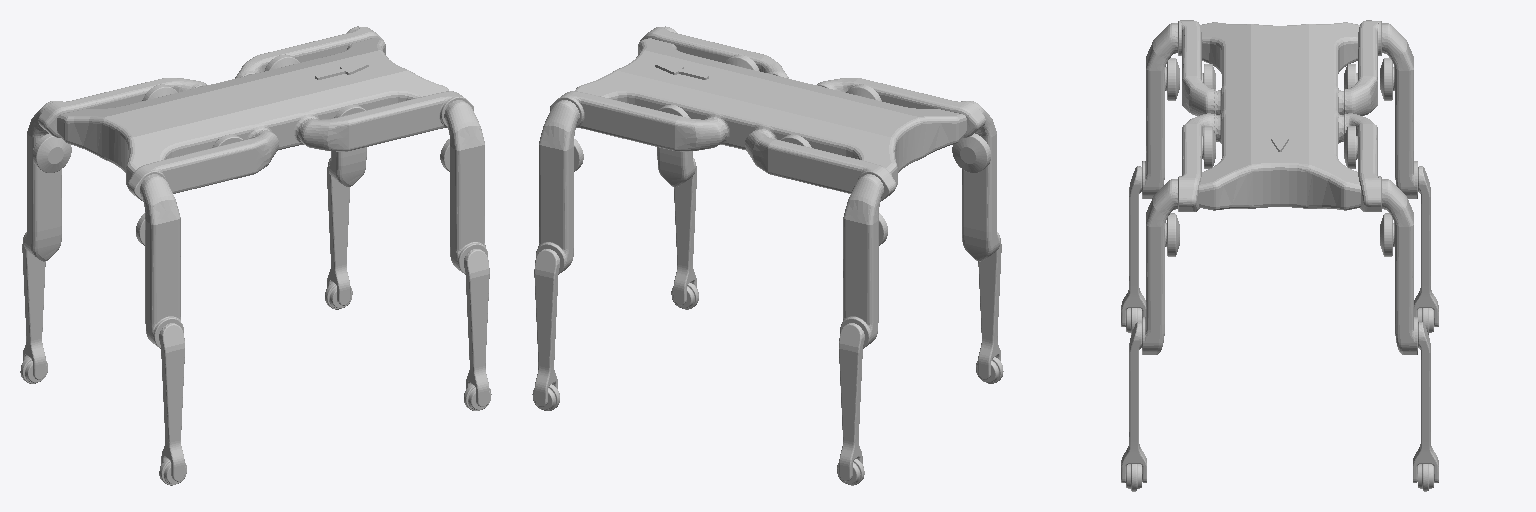
The robot description file, URDF, robot "solo":
<?xml version="1.0" ?>
<!-- =================================================================================== -->
<!-- |    This document was autogenerated by xacro from xacro/solo12.urdf.xacro        | -->
<!-- |    EDITING THIS FILE BY HAND IS NOT RECOMMENDED                                 | -->
<!-- =================================================================================== -->
<robot name="solo" xmlns:controller="http://playerstage.sourceforge.net/gazebo/xmlschema/#controller" xmlns:interface="http://playerstage.sourceforge.net/gazebo/xmlschema/#interface" xmlns:sensor="http://playerstage.sourceforge.net/gazebo/xmlschema/#sensor" xmlns:xacro="http://playerstage.sourceforge.net/gazebo/xmlschema/#interface">
  <!-- This file is based on: https://atlas.is.localnet/confluence/display/AMDW/Quadruped+URDF+Files -->
  <link name="base_link">
    <!-- BASE LINK INERTIAL -->
    <inertial>
      <origin rpy="0 0 0" xyz="0 0 0"/>
      <mass value="1.63315091"/>
      <!-- The base is extremely symmetrical. -->
      <inertia ixx="0.00578574" ixy="0.0" ixz="0.0" iyy="0.01938108" iyz="0.0" izz="0.02476124"/>
    </inertial>
    <!-- BASE LINK VISUAL -->
    <visual>
      <origin rpy="0 0 0" xyz="0 0 0"/>
      <geometry>
        <mesh filename="package://solo_description/meshes/obj/with_foot/solo_body.obj"/>
      </geometry>
      <material name="grey">
        <color rgba="0.8 0.8 0.8 1.0"/>
      </material>
    </visual>
    <!-- BASE LINK COLLISION -->
    <collision>
      <origin rpy="0 0 0" xyz="0 0 0"/>
      <geometry>
        <mesh filename="package://solo_description/meshes/obj/with_foot/solo_body.obj"/>
      </geometry>
      <material name="grey">
        <color rgba="0.8 0.8 0.8 1.0"/>
      </material>
    </collision>
    <!-- Bullet specific paramters -->
    <contact>
      <lateral_friction value="1.0"/>
      <restitution value="0.5"/>
    </contact>
  </link>
  <!-- END BASE LINK -->
  <joint name="FL_HAA" type="revolute">
    <parent link="base_link"/>
    <child link="FL_SHOULDER"/>
    <limit effort="1000" lower="-10" upper="10" velocity="1000"/>
    <!-- joints rotates around the x-axis -->
    <axis xyz="1 0 0"/>
    <origin rpy="0 0 0" xyz="0.19 0.1046 0"/>
    <!-- pybullet simulation parameters -->
    <dynamics damping="0.0" friction="0.0"/>
  </joint>
  <link name="FL_SHOULDER">
    <!-- create a dummy shoulder link to join the two joints -->
    <inertial>
      <origin rpy="0 0 0" xyz="0. 0. 0."/>
      <!-- Adding extra weight for actuator module at shoulder. -->
      <mass value="0.150"/>
      <inertia ixx="0.00000001" ixy="0.0" ixz="0.0" iyy="0.00000001" iyz="0" izz="0.00000001"/>
    </inertial>
  </link>
  <joint name="FL_HFE" type="revolute">
    <parent link="FL_SHOULDER"/>
    <child link="FL_UPPER_LEG"/>
    <limit effort="1000" lower="-10" upper="10" velocity="1000"/>
    <!-- joints rotates around the y-axis -->
    <axis xyz="0 1 0"/>
    <!-- placement of the joint -->
    <origin rpy="0 0 0" xyz="0 0 0"/>
    <!-- pybullet simulation parameters -->
    <dynamics damping="0.0" friction="0.0"/>
  </joint>
  <link name="FL_UPPER_LEG">
    <!-- Left upper leg inertia -->
    <inertial>
      <origin rpy="0 0 0" xyz="0.00001377 0.01935853 -0.07870700"/>
      <mass value="0.14853845"/>
      <inertia ixx="0.00041107" ixy="0.0" ixz="0.0" iyy="0.00041193" iyz="0.00004671" izz="0.00003024"/>
    </inertial>
    <!-- UPPER LEG LINK VISUAL -->
    <visual>
      <origin rpy="0 0 0" xyz="0 0 0"/>
      <geometry>
        <mesh filename="package://solo_description/meshes/obj/with_foot/solo_upper_leg_left_side.obj"/>
      </geometry>
      <material name="grey">
        <color rgba="0.8 0.8 0.8 1.0"/>
      </material>
    </visual>
    <!-- UPPER LEG LINK COLLISION -->
    <collision>
      <origin rpy="0 0 0" xyz="0 0 0"/>
      <geometry>
        <mesh filename="package://solo_description/meshes/obj/with_foot/solo_upper_leg_left_side.obj"/>
      </geometry>
      <material name="grey">
        <color rgba="0.8 0.8 0.8 1.0"/>
      </material>
    </collision>
    <!-- Bullet specific paramters -->
    <contact>
      <lateral_friction value="1.0"/>
      <restitution value="0.5"/>
    </contact>
  </link>
  <!-- END UPPER LEG LINK -->
  <!-- KFE: Joint between the upper leg and the lower leg -->
  <joint name="FL_KFE" type="revolute">
    <parent link="FL_UPPER_LEG"/>
    <child link="FL_LOWER_LEG"/>
    <limit effort="1000" lower="-10" upper="10" velocity="1000"/>
    <!-- joints rotates around the y-axis -->
    <axis xyz="0 1 0"/>
    <origin rpy="0 0 0" xyz="0 0.03745 -0.16"/>
    <!-- pybullet simulation parameters -->
    <dynamics damping="0.0" friction="0.0"/>
  </joint>
  <link name="FL_LOWER_LEG">
    <!-- Left lower leg inertia -->
    <inertial>
      <origin rpy="0 0 0" xyz="0.0 0.00787644 -0.08928215"/>
      <mass value="0.03070001"/>
      <inertia ixx="0.00012024" ixy="0.0" ixz="0.0" iyy="0.00012029" iyz="0.00000305" izz="0.00000216"/>
    </inertial>
    <!-- LOWER LEG LINK VISUAL -->
    <visual>
      <origin rpy="0 0 0" xyz="0 0 0"/>
      <geometry>
        <mesh filename="package://solo_description/meshes/obj/with_foot/solo_lower_leg_left_side.obj"/>
      </geometry>
      <material name="grey">
        <color rgba="0.8 0.8 0.8 1.0"/>
      </material>
    </visual>
    <!-- LOWER LEG LINK COLLISION -->
    <collision>
      <origin rpy="0 0 0" xyz="0 0 0"/>
      <geometry>
        <mesh filename="package://solo_description/meshes/obj/with_foot/solo_lower_leg_left_side.obj"/>
      </geometry>
      <material name="grey">
        <color rgba="0.8 0.8 0.8 1.0"/>
      </material>
    </collision>
    <!-- Bullet specific paramters -->
    <contact>
      <lateral_friction value="1.0"/>
      <restitution value="0.5"/>
    </contact>
  </link>
  <!-- END LOWER LEG LINK -->
  <!-- KFE: Joint between the upper leg and the lower leg -->
  <joint name="FL_ANKLE" type="fixed">
    <parent link="FL_LOWER_LEG"/>
    <child link="FL_FOOT"/>
    <origin rpy="0 0 0" xyz="0 0.008 -0.16"/>
    <!-- Limits (usefull?) -->
    <limit effort="1000" lower="-10" upper="10" velocity="1000"/>
    <!-- pybullet simulation parameters -->
    <dynamics damping="0.0" friction="0.0"/>
  </joint>
  <link name="FL_FOOT">
    <!-- FOOT INERTIAL -->
    <!-- This link is symmetrical left or right -->
    <inertial>
      <origin rpy="0 0 0" xyz="0 0 0.00035767"/>
      <mass value="0.00693606"/>
      <inertia ixx="0.00000057" ixy="0.0" ixz="0.0" iyy="0.00000084" iyz="0.0" izz="0.00000053"/>
    </inertial>
    <!-- FOOT VISUAL -->
    <visual>
      <origin rpy="0 0 0" xyz="0 0 0"/>
      <geometry>
        <mesh filename="package://solo_description/meshes/obj/with_foot/solo_foot.obj"/>
      </geometry>
      <material name="grey">
        <color rgba="0.8 0.8 0.8 1.0"/>
      </material>
    </visual>
    <!-- FOOT COLLISION -->
    <collision>
      <origin rpy="0 0 0" xyz="0 0 0"/>
      <geometry>
        <mesh filename="package://solo_description/meshes/obj/with_foot/solo_foot.obj"/>
      </geometry>
      <material name="grey">
        <color rgba="0.8 0.8 0.8 1.0"/>
      </material>
    </collision>
    <!-- Bullet specific paramters -->
    <contact>
      <lateral_friction value="1.0"/>
      <restitution value="0.5"/>
    </contact>
  </link>
  <!-- END LOWER LEG LINK -->
  <joint name="FR_HAA" type="revolute">
    <parent link="base_link"/>
    <child link="FR_SHOULDER"/>
    <limit effort="1000" lower="-10" upper="10" velocity="1000"/>
    <!-- joints rotates around the x-axis -->
    <axis xyz="1 0 0"/>
    <origin rpy="0 0 0" xyz="0.19 -0.1046 0"/>
    <!-- pybullet simulation parameters -->
    <dynamics damping="0.0" friction="0.0"/>
  </joint>
  <link name="FR_SHOULDER">
    <!-- create a dummy shoulder link to join the two joints -->
    <inertial>
      <origin rpy="0 0 0" xyz="0. 0. 0."/>
      <!-- Adding extra weight for actuator module at shoulder. -->
      <mass value="0.150"/>
      <inertia ixx="0.00000001" ixy="0.0" ixz="0.0" iyy="0.00000001" iyz="0" izz="0.00000001"/>
    </inertial>
  </link>
  <joint name="FR_HFE" type="revolute">
    <parent link="FR_SHOULDER"/>
    <child link="FR_UPPER_LEG"/>
    <limit effort="1000" lower="-10" upper="10" velocity="1000"/>
    <!-- joints rotates around the y-axis -->
    <axis xyz="0 1 0"/>
    <!-- placement of the joint -->
    <origin rpy="0 0 0" xyz="0 0 0"/>
    <!-- pybullet simulation parameters -->
    <dynamics damping="0.0" friction="0.0"/>
  </joint>
  <link name="FR_UPPER_LEG">
    <!-- Right upper leg inertia -->
    <inertial>
      <origin rpy="0 0 0" xyz="-0.00001377 -0.01935853 -0.07870700"/>
      <mass value="0.14853845"/>
      <inertia ixx="0.00041107" ixy="0.0" ixz="0.0" iyy="0.00041193" iyz="-0.00004671" izz="0.00003024"/>
    </inertial>
    <!-- UPPER LEG LINK VISUAL -->
    <visual>
      <origin rpy="0 0 0" xyz="0 0 0"/>
      <geometry>
        <mesh filename="package://solo_description/meshes/obj/with_foot/solo_upper_leg_right_side.obj"/>
      </geometry>
      <material name="grey">
        <color rgba="0.8 0.8 0.8 1.0"/>
      </material>
    </visual>
    <!-- UPPER LEG LINK COLLISION -->
    <collision>
      <origin rpy="0 0 0" xyz="0 0 0"/>
      <geometry>
        <mesh filename="package://solo_description/meshes/obj/with_foot/solo_upper_leg_right_side.obj"/>
      </geometry>
      <material name="grey">
        <color rgba="0.8 0.8 0.8 1.0"/>
      </material>
    </collision>
    <!-- Bullet specific paramters -->
    <contact>
      <lateral_friction value="1.0"/>
      <restitution value="0.5"/>
    </contact>
  </link>
  <!-- END UPPER LEG LINK -->
  <!-- KFE: Joint between the upper leg and the lower leg -->
  <joint name="FR_KFE" type="revolute">
    <parent link="FR_UPPER_LEG"/>
    <child link="FR_LOWER_LEG"/>
    <limit effort="1000" lower="-10" upper="10" velocity="1000"/>
    <!-- joints rotates around the y-axis -->
    <axis xyz="0 1 0"/>
    <origin rpy="0 0 0" xyz="0 -0.03745 -0.16"/>
    <!-- pybullet simulation parameters -->
    <dynamics damping="0.0" friction="0.0"/>
  </joint>
  <link name="FR_LOWER_LEG">
    <!-- Right lower leg inertia -->
    <inertial>
      <origin rpy="0 0 0" xyz="0.0 0.00787644 -0.08928215"/>
      <mass value="0.03070001"/>
      <inertia ixx="0.00012024" ixy="0.0" ixz="0.0" iyy="0.00012029" iyz="-0.00000305" izz="0.00000216"/>
    </inertial>
    <!-- LOWER LEG LINK VISUAL -->
    <visual>
      <origin rpy="0 0 0" xyz="0 0 0"/>
      <geometry>
        <mesh filename="package://solo_description/meshes/obj/with_foot/solo_lower_leg_right_side.obj"/>
      </geometry>
      <material name="grey">
        <color rgba="0.8 0.8 0.8 1.0"/>
      </material>
    </visual>
    <!-- LOWER LEG LINK COLLISION -->
    <collision>
      <origin rpy="0 0 0" xyz="0 0 0"/>
      <geometry>
        <mesh filename="package://solo_description/meshes/obj/with_foot/solo_lower_leg_right_side.obj"/>
      </geometry>
      <material name="grey">
        <color rgba="0.8 0.8 0.8 1.0"/>
      </material>
    </collision>
    <!-- Bullet specific paramters -->
    <contact>
      <lateral_friction value="1.0"/>
      <restitution value="0.5"/>
    </contact>
  </link>
  <!-- END LOWER LEG LINK -->
  <!-- KFE: Joint between the upper leg and the lower leg -->
  <joint name="FR_ANKLE" type="fixed">
    <parent link="FR_LOWER_LEG"/>
    <child link="FR_FOOT"/>
    <origin rpy="0 0 0" xyz="0 -0.008 -0.16"/>
    <!-- Limits (usefull?) -->
    <limit effort="1000" lower="-10" upper="10" velocity="1000"/>
    <!-- pybullet simulation parameters -->
    <dynamics damping="0.0" friction="0.0"/>
  </joint>
  <link name="FR_FOOT">
    <!-- FOOT INERTIAL -->
    <!-- This link is symmetrical left or right -->
    <inertial>
      <origin rpy="0 0 0" xyz="0 0 0.00035767"/>
      <mass value="0.00693606"/>
      <inertia ixx="0.00000057" ixy="0.0" ixz="0.0" iyy="0.00000084" iyz="0.0" izz="0.00000053"/>
    </inertial>
    <!-- FOOT VISUAL -->
    <visual>
      <origin rpy="0 0 0" xyz="0 0 0"/>
      <geometry>
        <mesh filename="package://solo_description/meshes/obj/with_foot/solo_foot.obj"/>
      </geometry>
      <material name="grey">
        <color rgba="0.8 0.8 0.8 1.0"/>
      </material>
    </visual>
    <!-- FOOT COLLISION -->
    <collision>
      <origin rpy="0 0 0" xyz="0 0 0"/>
      <geometry>
        <mesh filename="package://solo_description/meshes/obj/with_foot/solo_foot.obj"/>
      </geometry>
      <material name="grey">
        <color rgba="0.8 0.8 0.8 1.0"/>
      </material>
    </collision>
    <!-- Bullet specific paramters -->
    <contact>
      <lateral_friction value="1.0"/>
      <restitution value="0.5"/>
    </contact>
  </link>
  <!-- END LOWER LEG LINK -->
  <joint name="HL_HAA" type="revolute">
    <parent link="base_link"/>
    <child link="HL_SHOULDER"/>
    <limit effort="1000" lower="-10" upper="10" velocity="1000"/>
    <!-- joints rotates around the x-axis -->
    <axis xyz="1 0 0"/>
    <origin rpy="0 0 0" xyz="-0.19 0.1046 0"/>
    <!-- pybullet simulation parameters -->
    <dynamics damping="0.0" friction="0.0"/>
  </joint>
  <link name="HL_SHOULDER">
    <!-- create a dummy shoulder link to join the two joints -->
    <inertial>
      <origin rpy="0 0 0" xyz="0. 0. 0."/>
      <!-- Adding extra weight for actuator module at shoulder. -->
      <mass value="0.150"/>
      <inertia ixx="0.00000001" ixy="0.0" ixz="0.0" iyy="0.00000001" iyz="0" izz="0.00000001"/>
    </inertial>
  </link>
  <joint name="HL_HFE" type="revolute">
    <parent link="HL_SHOULDER"/>
    <child link="HL_UPPER_LEG"/>
    <limit effort="1000" lower="-10" upper="10" velocity="1000"/>
    <!-- joints rotates around the y-axis -->
    <axis xyz="0 1 0"/>
    <!-- placement of the joint -->
    <origin rpy="0 0 0" xyz="0 0 0"/>
    <!-- pybullet simulation parameters -->
    <dynamics damping="0.0" friction="0.0"/>
  </joint>
  <link name="HL_UPPER_LEG">
    <!-- Left upper leg inertia -->
    <inertial>
      <origin rpy="0 0 0" xyz="0.00001377 0.01935853 -0.07870700"/>
      <mass value="0.14853845"/>
      <inertia ixx="0.00041107" ixy="0.0" ixz="0.0" iyy="0.00041193" iyz="0.00004671" izz="0.00003024"/>
    </inertial>
    <!-- UPPER LEG LINK VISUAL -->
    <visual>
      <origin rpy="0 0 0" xyz="0 0 0"/>
      <geometry>
        <mesh filename="package://solo_description/meshes/obj/with_foot/solo_upper_leg_left_side.obj"/>
      </geometry>
      <material name="grey">
        <color rgba="0.8 0.8 0.8 1.0"/>
      </material>
    </visual>
    <!-- UPPER LEG LINK COLLISION -->
    <collision>
      <origin rpy="0 0 0" xyz="0 0 0"/>
      <geometry>
        <mesh filename="package://solo_description/meshes/obj/with_foot/solo_upper_leg_left_side.obj"/>
      </geometry>
      <material name="grey">
        <color rgba="0.8 0.8 0.8 1.0"/>
      </material>
    </collision>
    <!-- Bullet specific paramters -->
    <contact>
      <lateral_friction value="1.0"/>
      <restitution value="0.5"/>
    </contact>
  </link>
  <!-- END UPPER LEG LINK -->
  <!-- KFE: Joint between the upper leg and the lower leg -->
  <joint name="HL_KFE" type="revolute">
    <parent link="HL_UPPER_LEG"/>
    <child link="HL_LOWER_LEG"/>
    <limit effort="1000" lower="-10" upper="10" velocity="1000"/>
    <!-- joints rotates around the y-axis -->
    <axis xyz="0 1 0"/>
    <origin rpy="0 0 0" xyz="0 0.03745 -0.16"/>
    <!-- pybullet simulation parameters -->
    <dynamics damping="0.0" friction="0.0"/>
  </joint>
  <link name="HL_LOWER_LEG">
    <!-- Left lower leg inertia -->
    <inertial>
      <origin rpy="0 0 0" xyz="0.0 0.00787644 -0.08928215"/>
      <mass value="0.03070001"/>
      <inertia ixx="0.00012024" ixy="0.0" ixz="0.0" iyy="0.00012029" iyz="0.00000305" izz="0.00000216"/>
    </inertial>
    <!-- LOWER LEG LINK VISUAL -->
    <visual>
      <origin rpy="0 0 0" xyz="0 0 0"/>
      <geometry>
        <mesh filename="package://solo_description/meshes/obj/with_foot/solo_lower_leg_left_side.obj"/>
      </geometry>
      <material name="grey">
        <color rgba="0.8 0.8 0.8 1.0"/>
      </material>
    </visual>
    <!-- LOWER LEG LINK COLLISION -->
    <collision>
      <origin rpy="0 0 0" xyz="0 0 0"/>
      <geometry>
        <mesh filename="package://solo_description/meshes/obj/with_foot/solo_lower_leg_left_side.obj"/>
      </geometry>
      <material name="grey">
        <color rgba="0.8 0.8 0.8 1.0"/>
      </material>
    </collision>
    <!-- Bullet specific paramters -->
    <contact>
      <lateral_friction value="1.0"/>
      <restitution value="0.5"/>
    </contact>
  </link>
  <!-- END LOWER LEG LINK -->
  <!-- KFE: Joint between the upper leg and the lower leg -->
  <joint name="HL_ANKLE" type="fixed">
    <parent link="HL_LOWER_LEG"/>
    <child link="HL_FOOT"/>
    <origin rpy="0 0 0" xyz="0 0.008 -0.16"/>
    <!-- Limits (usefull?) -->
    <limit effort="1000" lower="-10" upper="10" velocity="1000"/>
    <!-- pybullet simulation parameters -->
    <dynamics damping="0.0" friction="0.0"/>
  </joint>
  <link name="HL_FOOT">
    <!-- FOOT INERTIAL -->
    <!-- This link is symmetrical left or right -->
    <inertial>
      <origin rpy="0 0 0" xyz="0 0 0.00035767"/>
      <mass value="0.00693606"/>
      <inertia ixx="0.00000057" ixy="0.0" ixz="0.0" iyy="0.00000084" iyz="0.0" izz="0.00000053"/>
    </inertial>
    <!-- FOOT VISUAL -->
    <visual>
      <origin rpy="0 0 0" xyz="0 0 0"/>
      <geometry>
        <mesh filename="package://solo_description/meshes/obj/with_foot/solo_foot.obj"/>
      </geometry>
      <material name="grey">
        <color rgba="0.8 0.8 0.8 1.0"/>
      </material>
    </visual>
    <!-- FOOT COLLISION -->
    <collision>
      <origin rpy="0 0 0" xyz="0 0 0"/>
      <geometry>
        <mesh filename="package://solo_description/meshes/obj/with_foot/solo_foot.obj"/>
      </geometry>
      <material name="grey">
        <color rgba="0.8 0.8 0.8 1.0"/>
      </material>
    </collision>
    <!-- Bullet specific paramters -->
    <contact>
      <lateral_friction value="1.0"/>
      <restitution value="0.5"/>
    </contact>
  </link>
  <!-- END LOWER LEG LINK -->
  <joint name="HR_HAA" type="revolute">
    <parent link="base_link"/>
    <child link="HR_SHOULDER"/>
    <limit effort="1000" lower="-10" upper="10" velocity="1000"/>
    <!-- joints rotates around the x-axis -->
    <axis xyz="1 0 0"/>
    <origin rpy="0 0 0" xyz="-0.19 -0.1046 0"/>
    <!-- pybullet simulation parameters -->
    <dynamics damping="0.0" friction="0.0"/>
  </joint>
  <link name="HR_SHOULDER">
    <!-- create a dummy shoulder link to join the two joints -->
    <inertial>
      <origin rpy="0 0 0" xyz="0. 0. 0."/>
      <!-- Adding extra weight for actuator module at shoulder. -->
      <mass value="0.150"/>
      <inertia ixx="0.00000001" ixy="0.0" ixz="0.0" iyy="0.00000001" iyz="0" izz="0.00000001"/>
    </inertial>
  </link>
  <joint name="HR_HFE" type="revolute">
    <parent link="HR_SHOULDER"/>
    <child link="HR_UPPER_LEG"/>
    <limit effort="1000" lower="-10" upper="10" velocity="1000"/>
    <!-- joints rotates around the y-axis -->
    <axis xyz="0 1 0"/>
    <!-- placement of the joint -->
    <origin rpy="0 0 0" xyz="0 0 0"/>
    <!-- pybullet simulation parameters -->
    <dynamics damping="0.0" friction="0.0"/>
  </joint>
  <link name="HR_UPPER_LEG">
    <!-- Right upper leg inertia -->
    <inertial>
      <origin rpy="0 0 0" xyz="-0.00001377 -0.01935853 -0.07870700"/>
      <mass value="0.14853845"/>
      <inertia ixx="0.00041107" ixy="0.0" ixz="0.0" iyy="0.00041193" iyz="-0.00004671" izz="0.00003024"/>
    </inertial>
    <!-- UPPER LEG LINK VISUAL -->
    <visual>
      <origin rpy="0 0 0" xyz="0 0 0"/>
      <geometry>
        <mesh filename="package://solo_description/meshes/obj/with_foot/solo_upper_leg_right_side.obj"/>
      </geometry>
      <material name="grey">
        <color rgba="0.8 0.8 0.8 1.0"/>
      </material>
    </visual>
    <!-- UPPER LEG LINK COLLISION -->
    <collision>
      <origin rpy="0 0 0" xyz="0 0 0"/>
      <geometry>
        <mesh filename="package://solo_description/meshes/obj/with_foot/solo_upper_leg_right_side.obj"/>
      </geometry>
      <material name="grey">
        <color rgba="0.8 0.8 0.8 1.0"/>
      </material>
    </collision>
    <!-- Bullet specific paramters -->
    <contact>
      <lateral_friction value="1.0"/>
      <restitution value="0.5"/>
    </contact>
  </link>
  <!-- END UPPER LEG LINK -->
  <!-- KFE: Joint between the upper leg and the lower leg -->
  <joint name="HR_KFE" type="revolute">
    <parent link="HR_UPPER_LEG"/>
    <child link="HR_LOWER_LEG"/>
    <limit effort="1000" lower="-10" upper="10" velocity="1000"/>
    <!-- joints rotates around the y-axis -->
    <axis xyz="0 1 0"/>
    <origin rpy="0 0 0" xyz="0 -0.03745 -0.16"/>
    <!-- pybullet simulation parameters -->
    <dynamics damping="0.0" friction="0.0"/>
  </joint>
  <link name="HR_LOWER_LEG">
    <!-- Right lower leg inertia -->
    <inertial>
      <origin rpy="0 0 0" xyz="0.0 0.00787644 -0.08928215"/>
      <mass value="0.03070001"/>
      <inertia ixx="0.00012024" ixy="0.0" ixz="0.0" iyy="0.00012029" iyz="-0.00000305" izz="0.00000216"/>
    </inertial>
    <!-- LOWER LEG LINK VISUAL -->
    <visual>
      <origin rpy="0 0 0" xyz="0 0 0"/>
      <geometry>
        <mesh filename="package://solo_description/meshes/obj/with_foot/solo_lower_leg_right_side.obj"/>
      </geometry>
      <material name="grey">
        <color rgba="0.8 0.8 0.8 1.0"/>
      </material>
    </visual>
    <!-- LOWER LEG LINK COLLISION -->
    <collision>
      <origin rpy="0 0 0" xyz="0 0 0"/>
      <geometry>
        <mesh filename="package://solo_description/meshes/obj/with_foot/solo_lower_leg_right_side.obj"/>
      </geometry>
      <material name="grey">
        <color rgba="0.8 0.8 0.8 1.0"/>
      </material>
    </collision>
    <!-- Bullet specific paramters -->
    <contact>
      <lateral_friction value="1.0"/>
      <restitution value="0.5"/>
    </contact>
  </link>
  <!-- END LOWER LEG LINK -->
  <!-- KFE: Joint between the upper leg and the lower leg -->
  <joint name="HR_ANKLE" type="fixed">
    <parent link="HR_LOWER_LEG"/>
    <child link="HR_FOOT"/>
    <origin rpy="0 0 0" xyz="0 -0.008 -0.16"/>
    <!-- Limits (usefull?) -->
    <limit effort="1000" lower="-10" upper="10" velocity="1000"/>
    <!-- pybullet simulation parameters -->
    <dynamics damping="0.0" friction="0.0"/>
  </joint>
  <link name="HR_FOOT">
    <!-- FOOT INERTIAL -->
    <!-- This link is symmetrical left or right -->
    <inertial>
      <origin rpy="0 0 0" xyz="0 0 0.00035767"/>
      <mass value="0.00693606"/>
      <inertia ixx="0.00000057" ixy="0.0" ixz="0.0" iyy="0.00000084" iyz="0.0" izz="0.00000053"/>
    </inertial>
    <!-- FOOT VISUAL -->
    <visual>
      <origin rpy="0 0 0" xyz="0 0 0"/>
      <geometry>
        <mesh filename="package://solo_description/meshes/obj/with_foot/solo_foot.obj"/>
      </geometry>
      <material name="grey">
        <color rgba="0.8 0.8 0.8 1.0"/>
      </material>
    </visual>
    <!-- FOOT COLLISION -->
    <collision>
      <origin rpy="0 0 0" xyz="0 0 0"/>
      <geometry>
        <mesh filename="package://solo_description/meshes/obj/with_foot/solo_foot.obj"/>
      </geometry>
      <material name="grey">
        <color rgba="0.8 0.8 0.8 1.0"/>
      </material>
    </collision>
    <!-- Bullet specific paramters -->
    <contact>
      <lateral_friction value="1.0"/>
      <restitution value="0.5"/>
    </contact>
  </link>
  <!-- END LOWER LEG LINK -->
</robot>

--- Facts derived from the render (not from the file) ---
3 views of the same robot in one strip: view 1: azimuth 30°, elevation 25°; view 2: azimuth 150°, elevation 25°; view 3: azimuth 270°, elevation 25° (orthographic).
Model solo with 17 links and 16 joints (12 revolute, 4 fixed), rooted at base_link, posed all joints at 0.
Links seen in each view (by area): view 1: base_link, HR_UPPER_LEG, FR_UPPER_LEG, HL_UPPER_LEG, HR_LOWER_LEG, FR_LOWER_LEG, FL_LOWER_LEG, HL_LOWER_LEG, FL_UPPER_LEG; view 2: base_link, HL_UPPER_LEG, FL_UPPER_LEG, HR_UPPER_LEG, HL_LOWER_LEG, FL_LOWER_LEG, FR_LOWER_LEG, HR_LOWER_LEG, FR_UPPER_LEG; view 3: base_link, FL_UPPER_LEG, FR_UPPER_LEG, HL_UPPER_LEG, HR_UPPER_LEG, FL_LOWER_LEG, FR_LOWER_LEG, HL_LOWER_LEG, HR_LOWER_LEG.
Link boxes in pixels (x1,y1,x2,y2): base_link: (38,27,473,201); HR_UPPER_LEG: (136,174,183,348); FR_UPPER_LEG: (440,100,487,274); HL_UPPER_LEG: (24,101,71,261); HR_LOWER_LEG: (159,323,184,481); FR_LOWER_LEG: (464,249,489,406); FL_LOWER_LEG: (327,159,350,305); HL_LOWER_LEG: (22,233,45,379); FL_UPPER_LEG: (328,26,366,186); base_link: (550,27,985,201); HL_UPPER_LEG: (840,174,887,348); FL_UPPER_LEG: (536,100,583,274); HR_UPPER_LEG: (952,101,999,261); HL_LOWER_LEG: (839,323,864,481); FL_LOWER_LEG: (534,249,559,406); FR_LOWER_LEG: (673,159,696,305); HR_LOWER_LEG: (978,233,1001,379); FR_UPPER_LEG: (657,26,695,186); base_link: (1178,20,1381,211); FL_UPPER_LEG: (1380,179,1417,354); FR_UPPER_LEG: (1142,179,1179,354); HL_UPPER_LEG: (1380,23,1417,198); HR_UPPER_LEG: (1142,23,1179,198); FL_LOWER_LEG: (1413,322,1438,482); FR_LOWER_LEG: (1121,322,1146,482); HL_LOWER_LEG: (1414,166,1438,326); HR_LOWER_LEG: (1121,166,1145,326).
Size in the robot's own frame: 0.4244 by 0.327 by 0.364 metres.
13 mesh visuals loaded from 6 distinct referenced files (6 OBJ).
